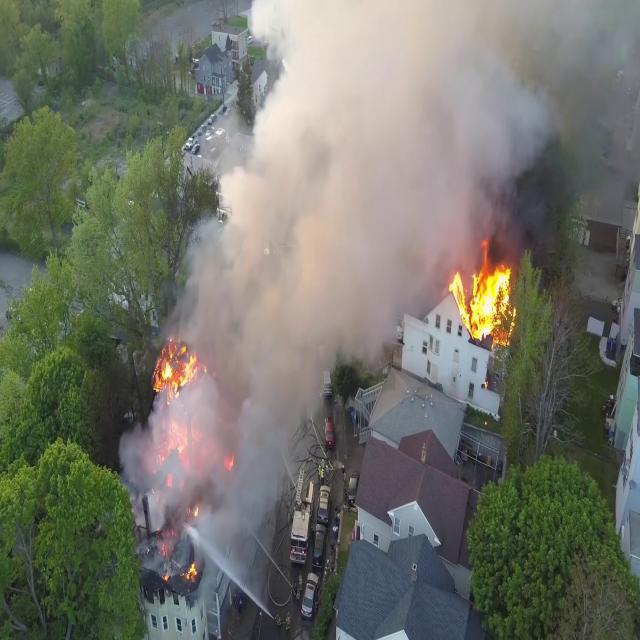fire: (455, 244, 524, 348), (155, 339, 204, 394), (165, 418, 192, 461)
